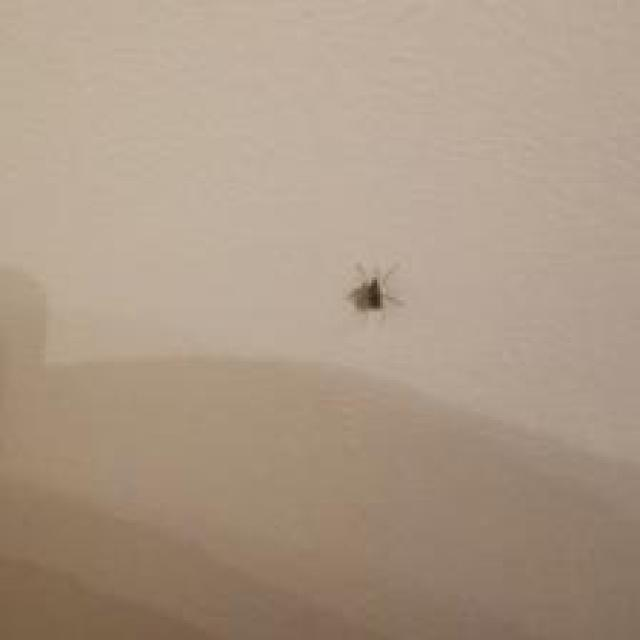Culex: (344, 260, 404, 317)
